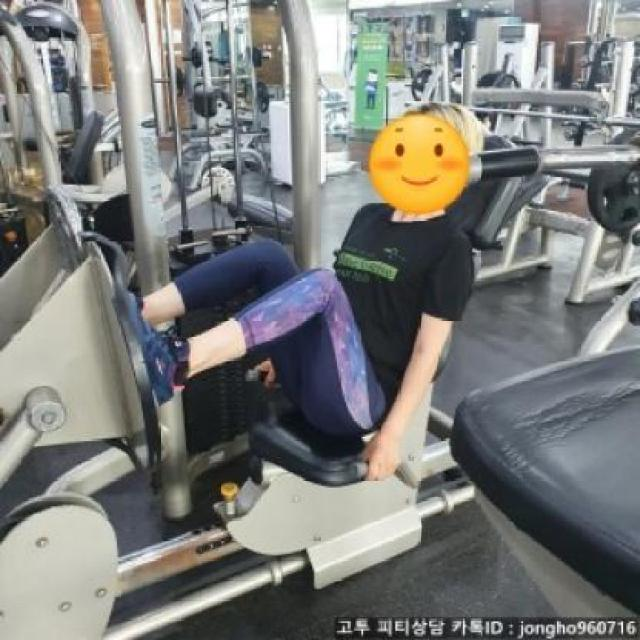leg press: (0, 67, 569, 640)
